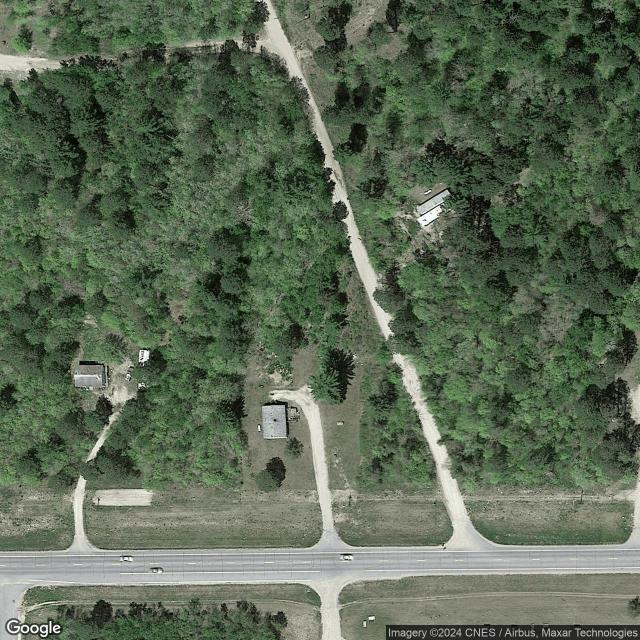Propane: (423, 188, 433, 196), (256, 424, 262, 434)
